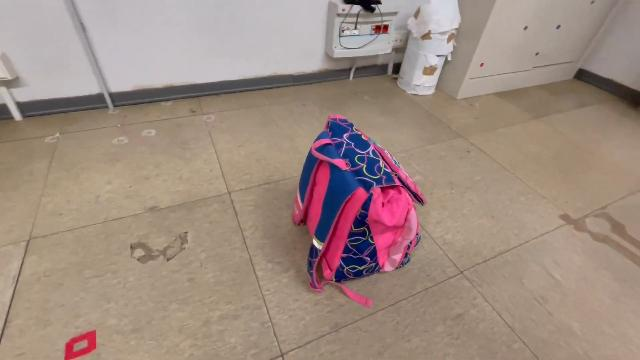Backpack: (286, 107, 430, 311)
